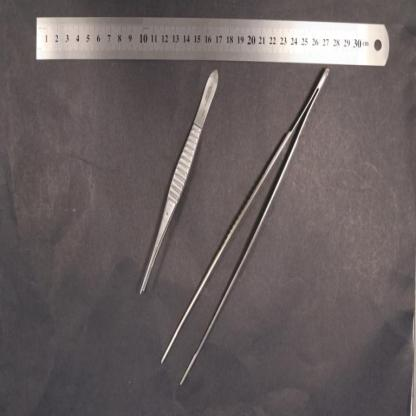DeBakey Dissector: (161, 66, 331, 388)
Gillies Toothed Dissector: (139, 67, 219, 298)
